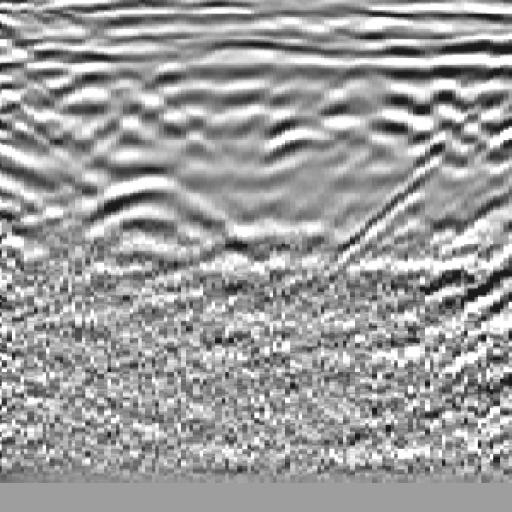metalic: (70, 157, 228, 278)
nonmetalic: (379, 44, 512, 273)
